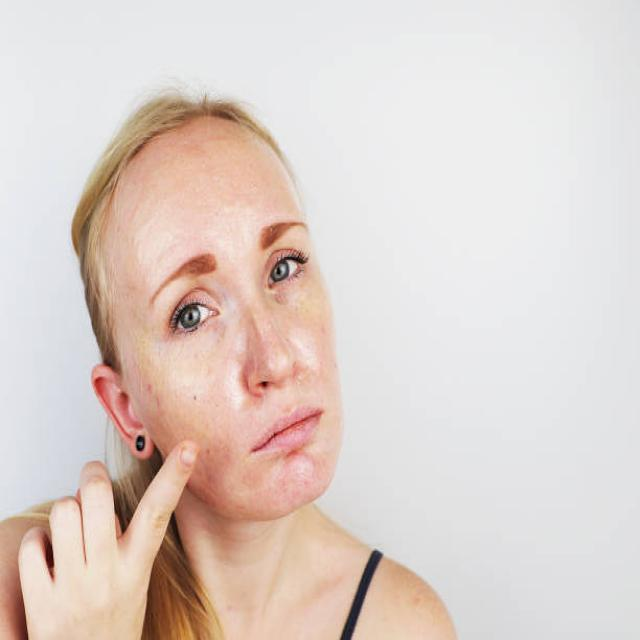oily: (274, 306, 336, 394), (190, 344, 259, 419)
